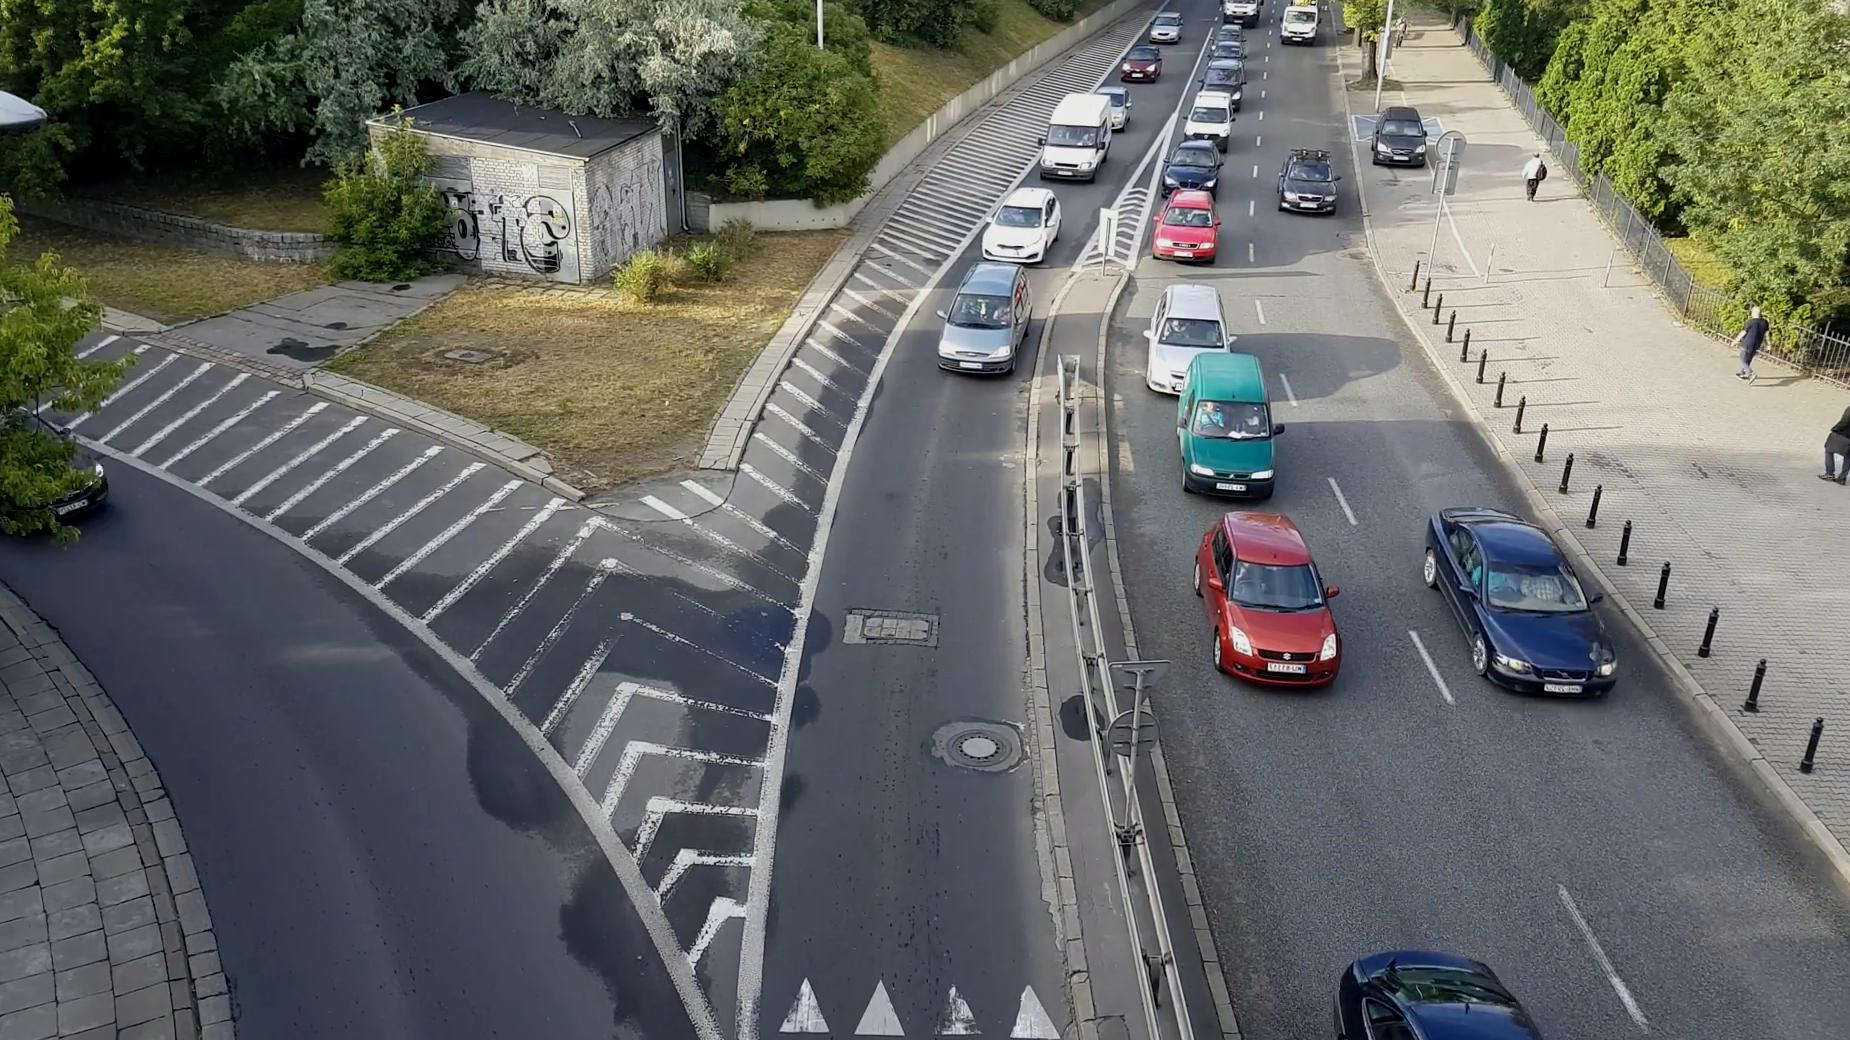car: (1422, 504, 1633, 701), (1193, 508, 1339, 686), (0, 378, 130, 563), (929, 260, 1042, 390), (1183, 343, 1281, 489), (1147, 274, 1224, 399), (1034, 88, 1119, 185), (977, 184, 1067, 267), (1152, 182, 1221, 267), (1274, 147, 1343, 212), (1156, 136, 1227, 192), (1370, 100, 1427, 168), (1188, 88, 1240, 141), (1121, 34, 1165, 83), (1277, 0, 1325, 41), (1208, 52, 1248, 84), (1151, 6, 1188, 39), (1217, 20, 1244, 52)
